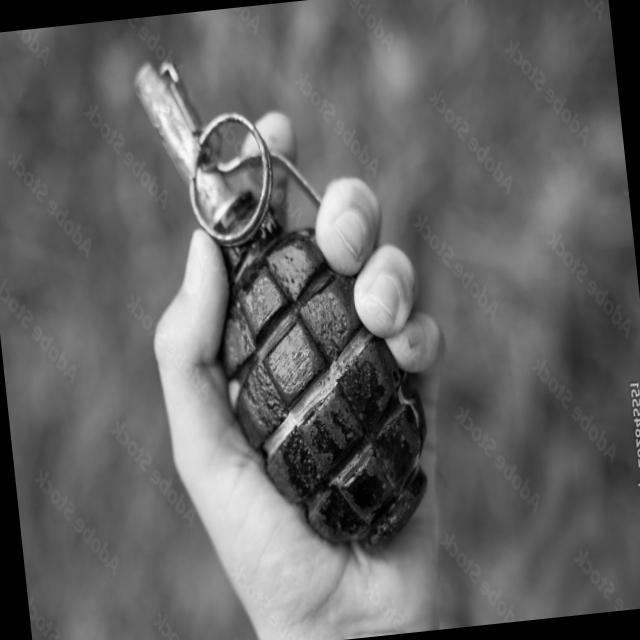grenade: (125, 36, 443, 573)
